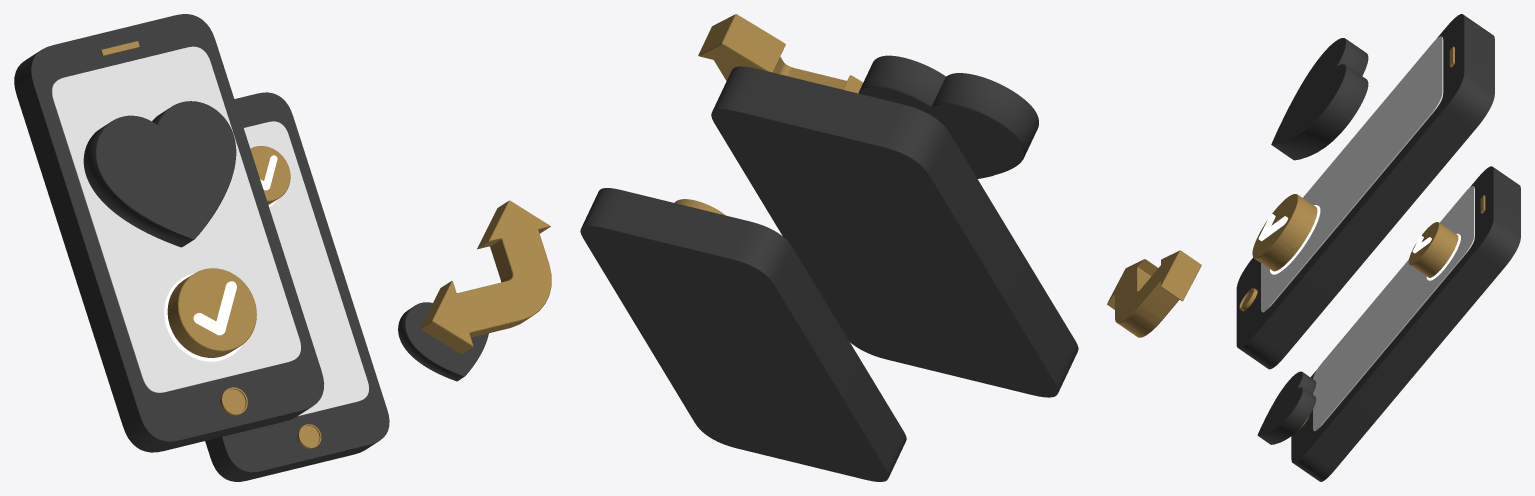
Rendered from modelDraco.gltf.
3 renders of one model, left to right at view 1: azimuth 30°, elevation 25°; view 2: azimuth 150°, elevation 25°; view 3: azimuth 270°, elevation 25°, orthographic. The views are drawn at different scales.
Visible parts, largest first — view 1: Rectangle011, cgaxis_models_74_03_081, Layer_U+0421_U+043B_U+043E_U+0439_149, Rectangle012, cgaxis_models_74_03_082, Line877526548, Cylinder034, Layer_U+0421_U+043B_U+043E_U+0439_148, Cylinder036, Layer_U+0421_U+043B_U+043E_U+0439_150, Cylinder035, Cylinder037; view 2: Rectangle011, Rectangle012, Layer_U+0421_U+043B_U+043E_U+0439_149, Line877526548; view 3: Rectangle011, Rectangle012, cgaxis_models_74_03_081, cgaxis_models_74_03_082, Layer_U+0421_U+043B_U+043E_U+0439_149, Line877526548, Cylinder034, Layer_U+0421_U+043B_U+043E_U+0439_148, Cylinder036.
Boxes of the visible parts, bbox=[...] form: Rectangle011: bbox=[14, 14, 324, 452]; cgaxis_models_74_03_081: bbox=[51, 46, 300, 392]; Layer_U+0421_U+043B_U+043E_U+0439_149: bbox=[83, 101, 236, 247]; Rectangle012: bbox=[205, 92, 389, 481]; cgaxis_models_74_03_082: bbox=[244, 121, 368, 416]; Line877526548: bbox=[420, 200, 551, 354]; Cylinder034: bbox=[167, 268, 256, 357]; Layer_U+0421_U+043B_U+043E_U+0439_148: bbox=[398, 302, 488, 381]; Cylinder036: bbox=[250, 146, 290, 204]; Layer_U+0421_U+043B_U+043E_U+0439_150: bbox=[193, 281, 236, 335]; Cylinder035: bbox=[220, 387, 247, 415]; Cylinder037: bbox=[164, 273, 241, 361]; Rectangle011: bbox=[711, 66, 1078, 397]; Rectangle012: bbox=[580, 188, 906, 481]; Layer_U+0421_U+043B_U+043E_U+0439_149: bbox=[858, 55, 1038, 178]; Line877526548: bbox=[698, 14, 863, 93]; Rectangle011: bbox=[1236, 14, 1494, 369]; Rectangle012: bbox=[1291, 166, 1520, 481]; cgaxis_models_74_03_081: bbox=[1261, 36, 1443, 312]; cgaxis_models_74_03_082: bbox=[1313, 186, 1474, 430]; Layer_U+0421_U+043B_U+043E_U+0439_149: bbox=[1271, 38, 1368, 160]; Line877526548: bbox=[1107, 250, 1201, 337]; Cylinder034: bbox=[1252, 194, 1317, 271]; Layer_U+0421_U+043B_U+043E_U+0439_148: bbox=[1257, 371, 1316, 444]; Cylinder036: bbox=[1408, 222, 1458, 277].
Bounding box in the file's own units: 213 × 221 × 229.
